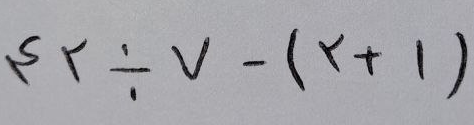character: (109, 44, 161, 104), (5, 34, 41, 89), (172, 35, 211, 84), (61, 37, 86, 85), (287, 28, 304, 96), (447, 32, 463, 104), (318, 34, 343, 78), (354, 45, 383, 76), (416, 39, 435, 81), (242, 60, 274, 70)
